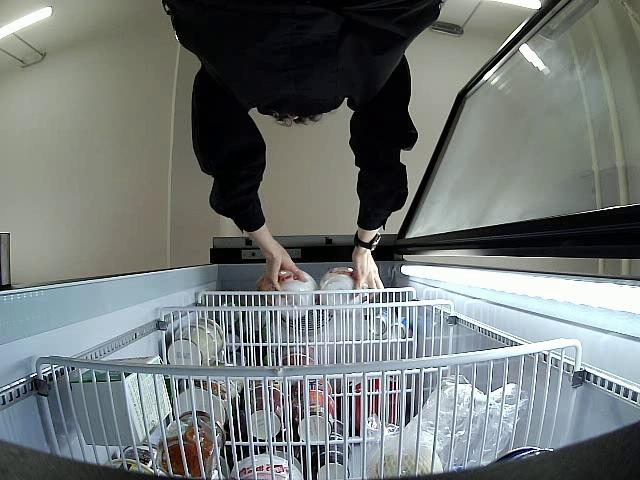00_hand: (256, 254, 307, 297), (349, 251, 385, 303)
09_yukGaeJang: (277, 270, 317, 319), (321, 265, 361, 306)
